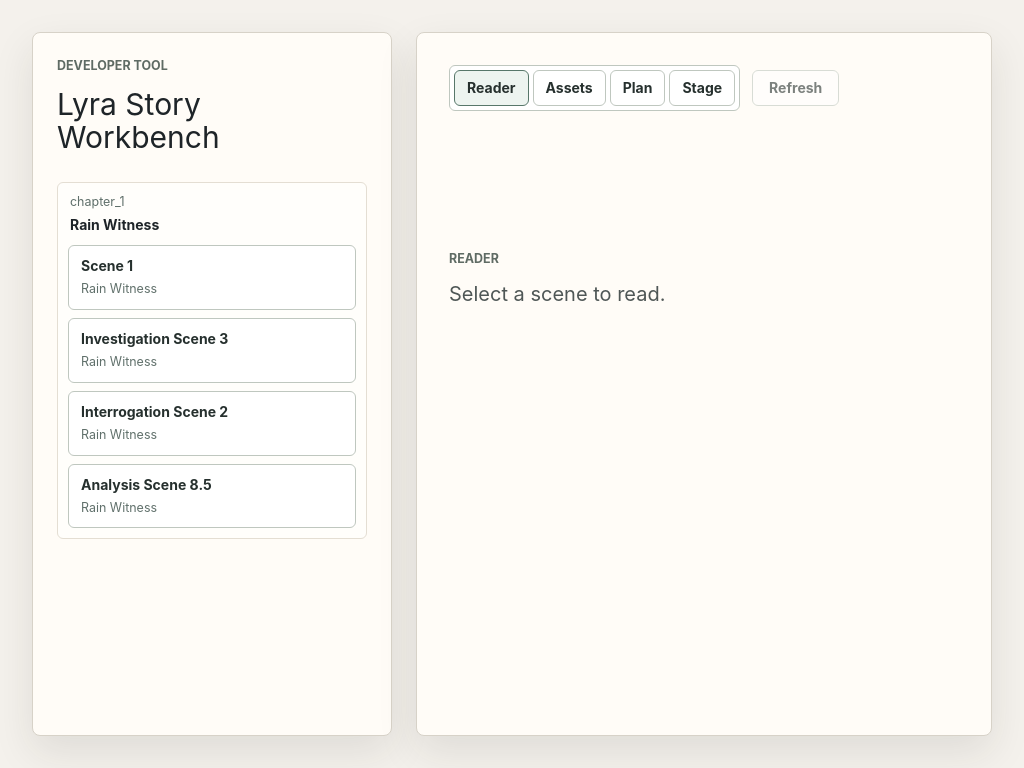
Test case: Lyra Story Workbench shell › entering Plan replaces the scene-tree sidebar and the Reader detail placeholder
The image size is (1024, 768).
Click the button "Plan" at (638, 88), box [610,70,665,106]
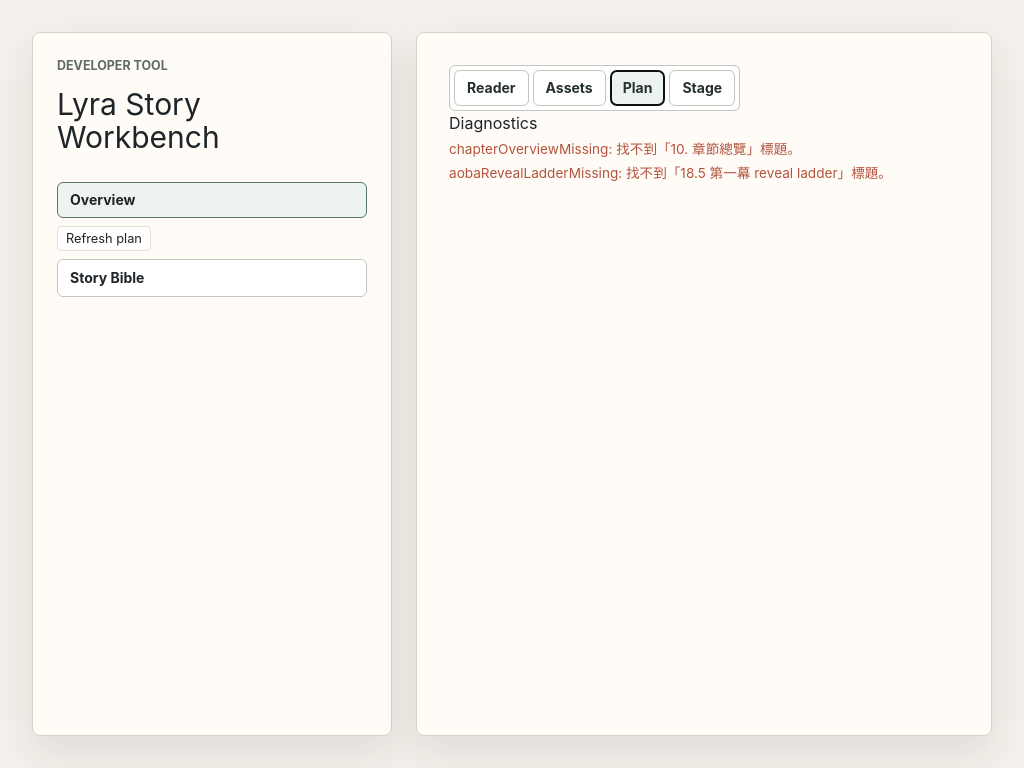
expect the navigation bar named "Plan documents" is shown: met, box [57,182,367,297]
expect the element named "Plan overview" is shown: met, box [449,111,959,184]
expect the text "Select a scene to read." is gone: met
